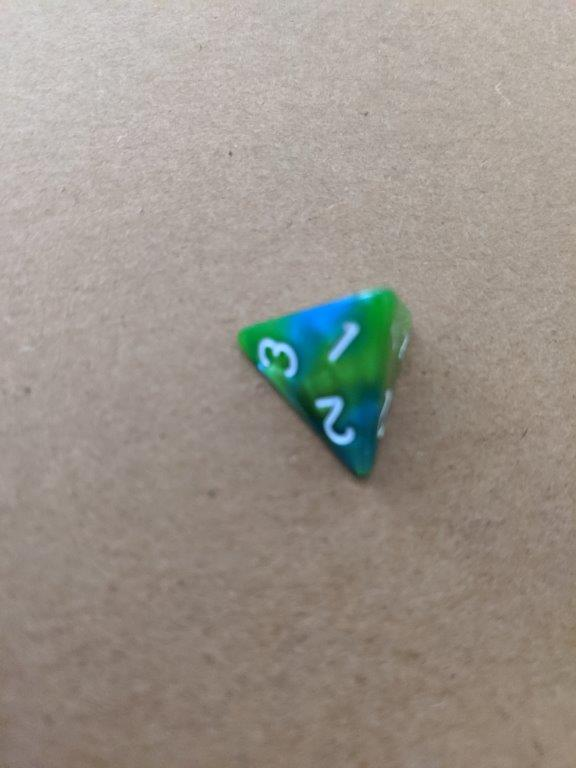d4-1: (235, 284, 416, 486)
